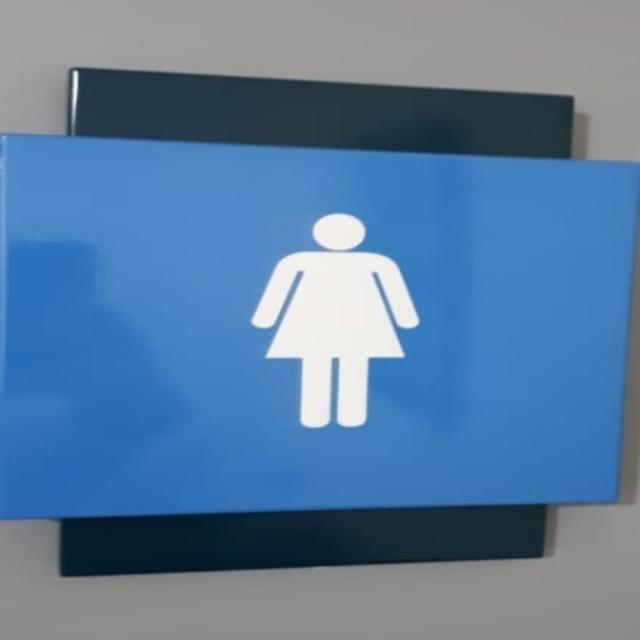wc nu: (0, 136, 638, 518)
